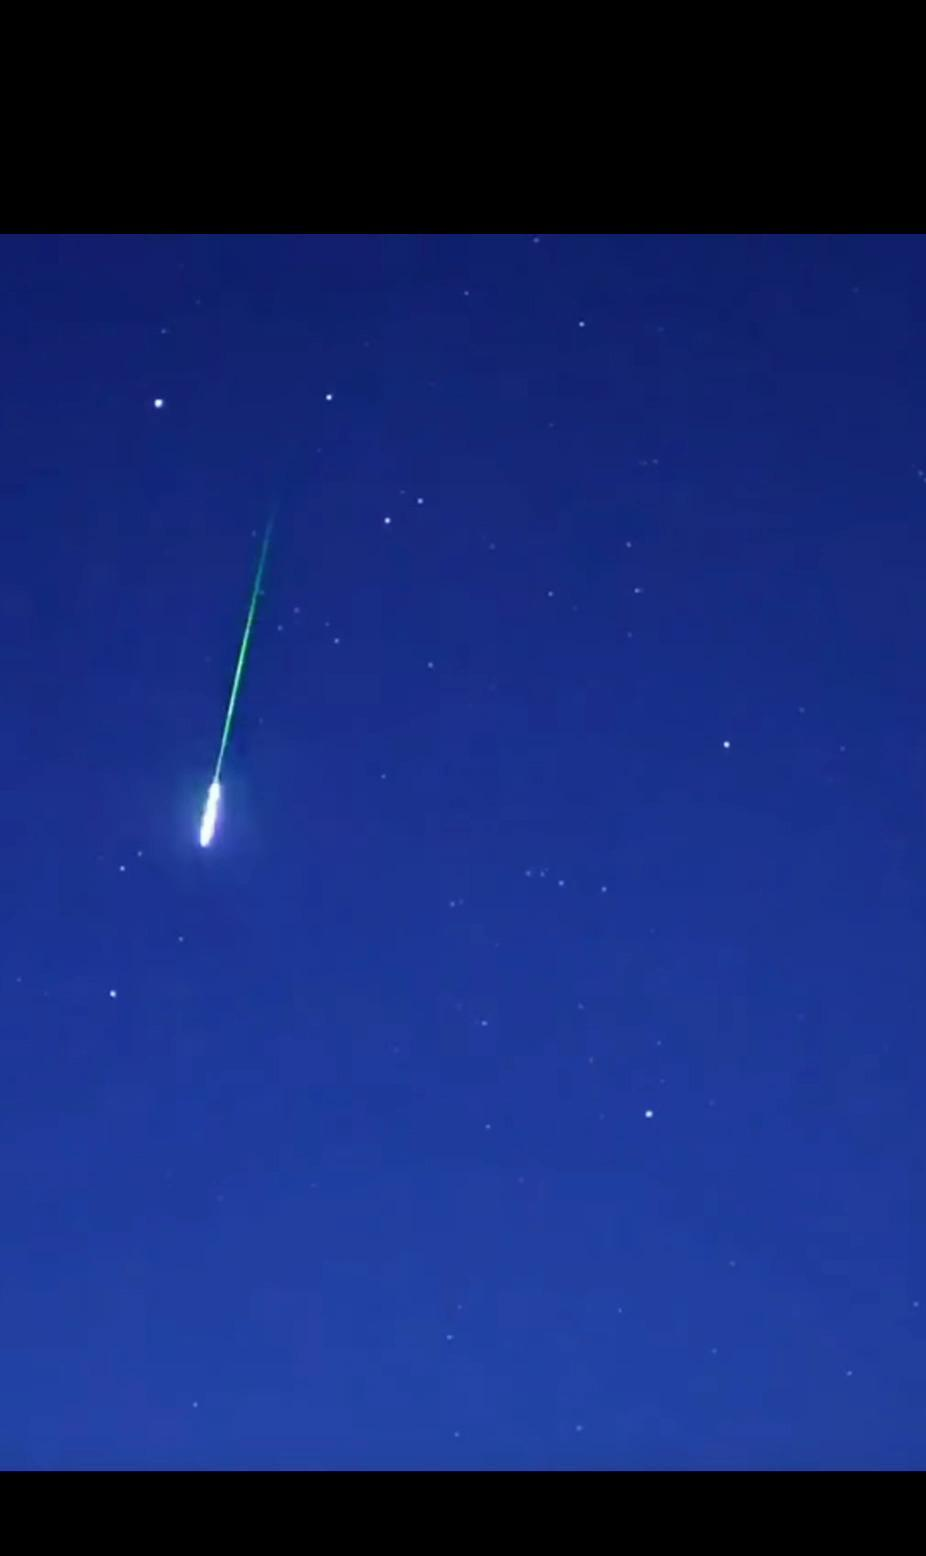meteorite: (169, 482, 301, 865)
